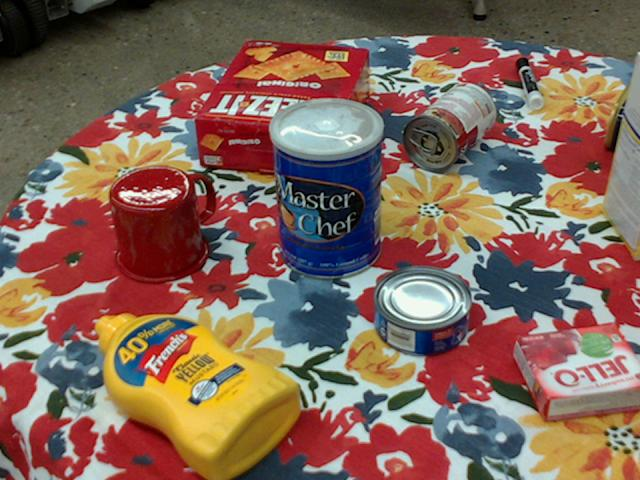cracker_box: (195, 40, 371, 178)
gelatin_box: (515, 323, 639, 420)
large_marker: (517, 56, 543, 107)
master_chef_can: (268, 97, 381, 279)
mug: (108, 165, 213, 283)
mustard_bottle: (95, 313, 302, 479)
potted_meat_can: (603, 75, 639, 151)
sugar_box: (601, 51, 639, 260)
tomato_soup_can: (403, 80, 495, 171)
tuna_fish_can: (373, 266, 472, 356)
